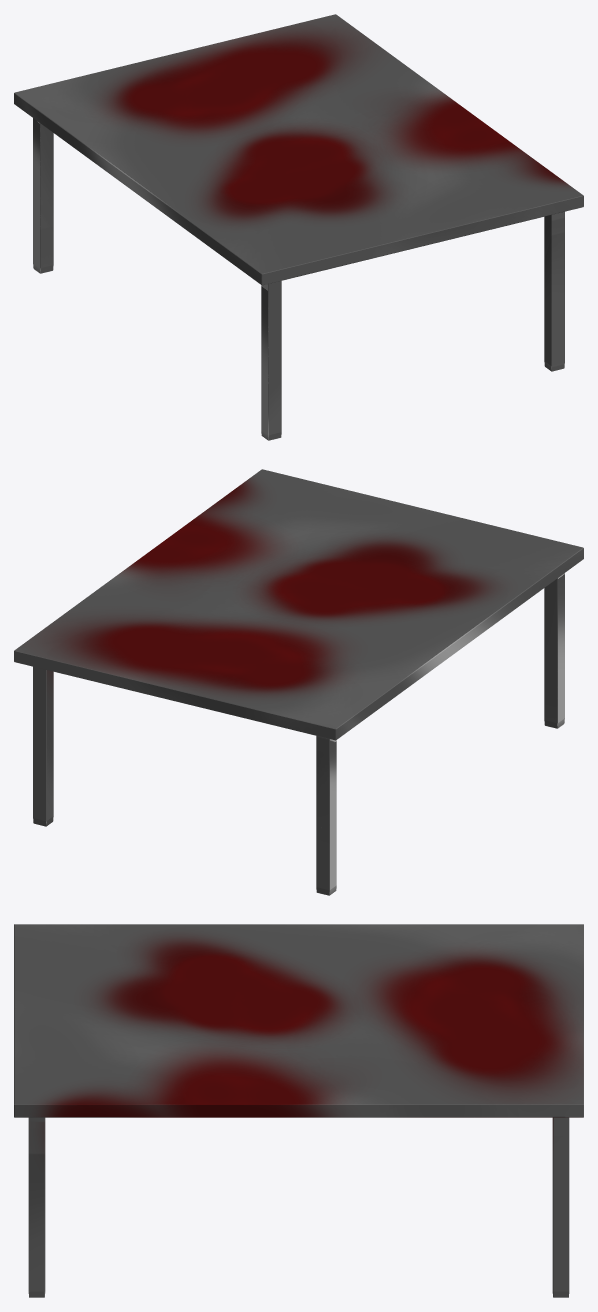
The model's file is Table.fbx.
The picture shows the model from 3 angles, top to bottom: view 1: azimuth 30°, elevation 25°; view 2: azimuth 150°, elevation 25°; view 3: azimuth 270°, elevation 25°; orthographic projection. The views are drawn at different scales.
Visible parts, largest first — view 1: Table; view 2: Table; view 3: Table.
Boxes of the visible parts, x1=… form: Table: x1=14, y1=14, x2=583, y2=440; Table: x1=14, y1=469, x2=583, y2=895; Table: x1=14, y1=924, x2=583, y2=1297.
Size of the model in its own units: 600 by 311 by 800.
Materials: 1 (1 with a texture image).
